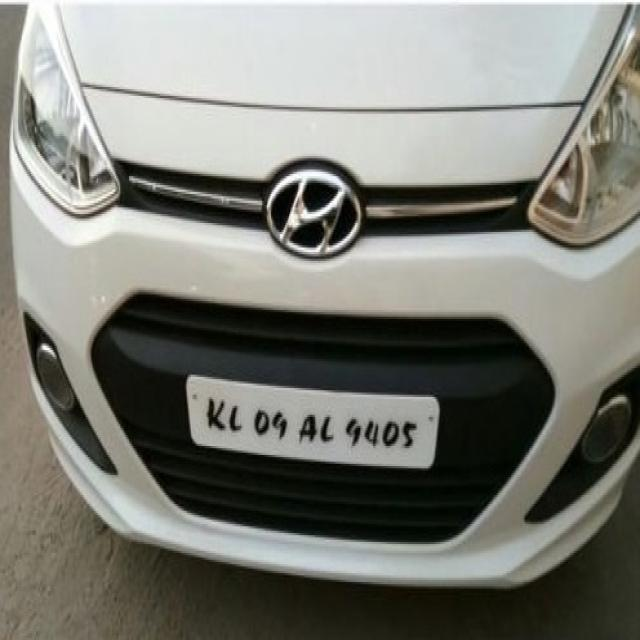number_plate: (188, 374, 432, 464)
